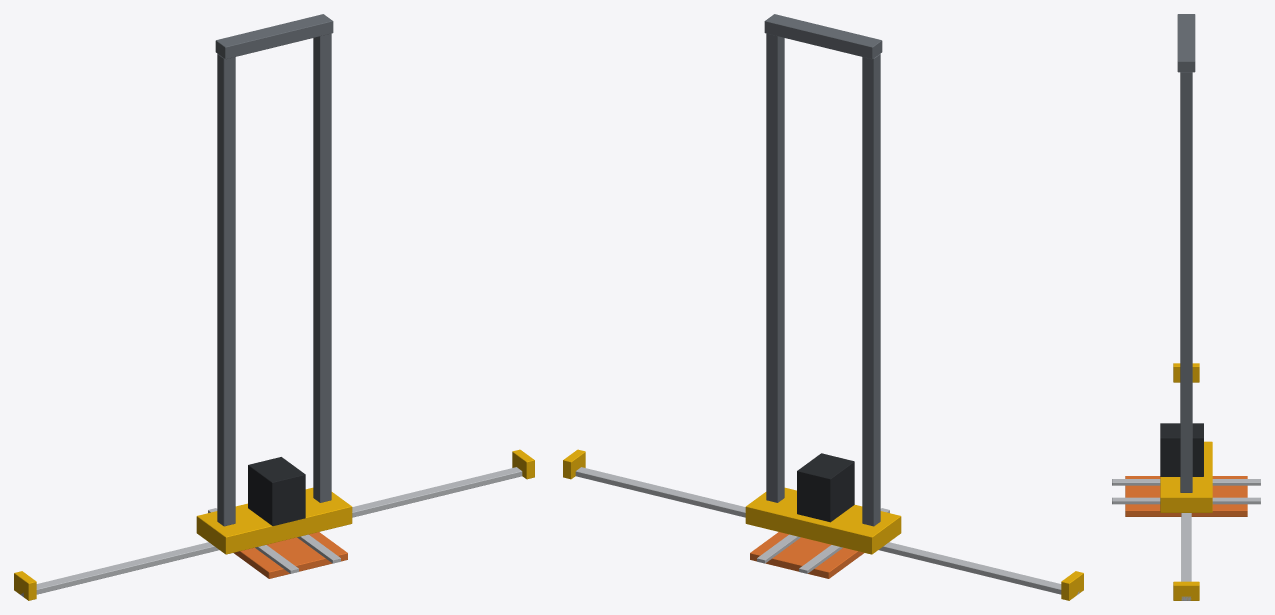
Rendered from stacker_crane.glb.
3 views of the same model, side by side, from view 1: azimuth 30°, elevation 25°; view 2: azimuth 150°, elevation 25°; view 3: azimuth 270°, elevation 25° (orthographic). The views are drawn at different scales.
Parts seen in each view (by area): view 1: Cart, Crane_Static, Platform, Forks; view 2: Cart, Crane_Static, Platform, Forks; view 3: Cart, Platform, Crane_Static, Forks.
Boxes of the visible parts, x1=… form: Cart: x1=196, y1=14, x2=352, y2=554; Crane_Static: x1=14, y1=449, x2=534, y2=600; Platform: x1=234, y1=532, x2=347, y2=578; Forks: x1=208, y1=508, x2=340, y2=573; Cart: x1=745, y1=14, x2=901, y2=554; Crane_Static: x1=563, y1=449, x2=1083, y2=600; Platform: x1=750, y1=532, x2=863, y2=578; Forks: x1=757, y1=508, x2=889, y2=573; Cart: x1=1160, y1=14, x2=1212, y2=512; Platform: x1=1125, y1=476, x2=1247, y2=516; Crane_Static: x1=1173, y1=363, x2=1199, y2=600; Forks: x1=1112, y1=479, x2=1260, y2=504.
Size of the model in its own units: 6 by 5.82 by 1.7.
